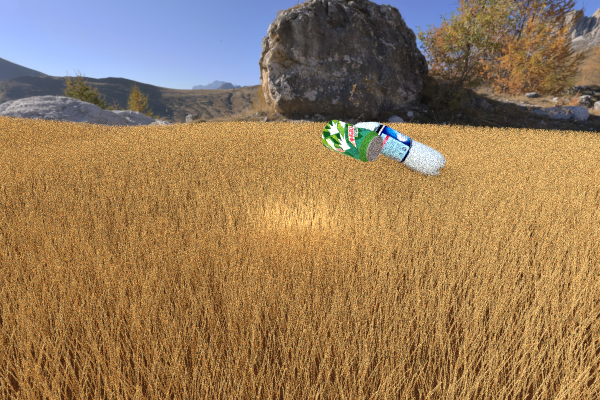Plastic Bottle: (347, 119, 446, 176), (321, 119, 383, 162), (153, 119, 217, 152)
